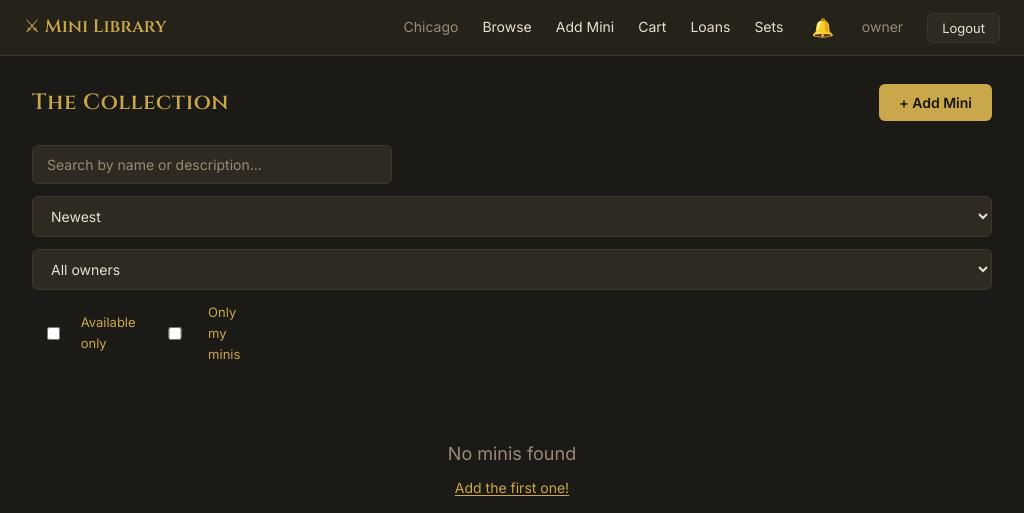
it: App nav — username link › links to the cart page from the nav
Click the link "Cart": (652, 28) top-left (638, 16), bottom-right (666, 39)
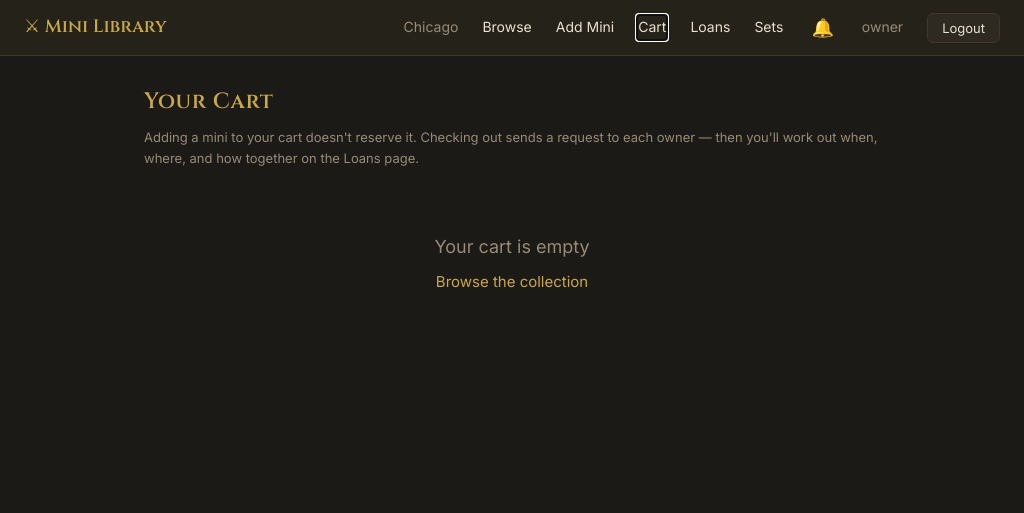
Expected: the heading "Your Cart" is shown, top-left (144, 87), bottom-right (274, 116)
